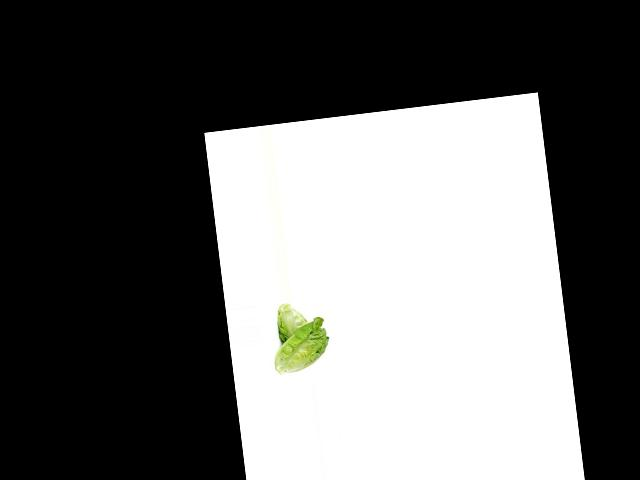lettuce: (271, 299, 311, 344)
